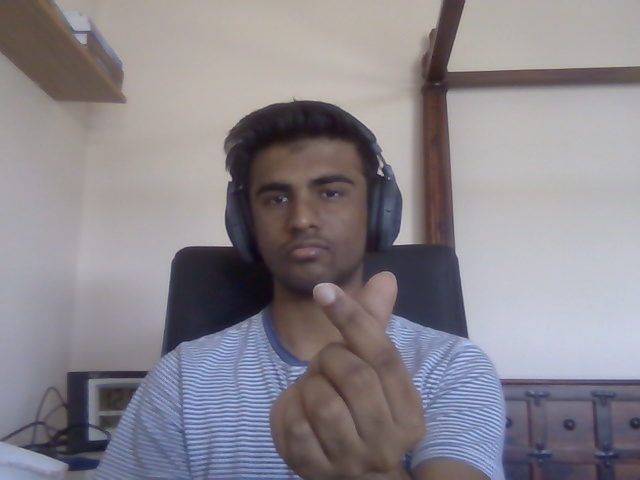Heart: (274, 272, 425, 478)
